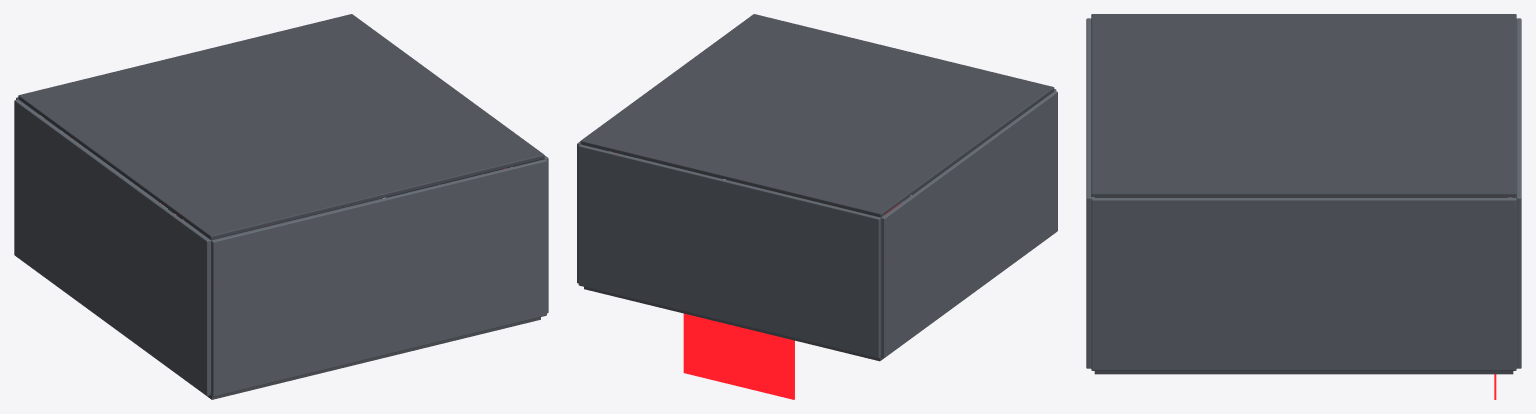
File: map.glb
3 renders of one model, left to right at view 1: azimuth 30°, elevation 25°; view 2: azimuth 150°, elevation 25°; view 3: azimuth 270°, elevation 25°, orthographic. The views are drawn at different scales.
Visible parts, largest first — view 1: MAP_Ceiling, MAP_BackWall, MAP_LeftWall, MAP_Floor; view 2: MAP_Ceiling, MAP_FrontWall, MAP_LeftWall, MAP_SessionSummaryBorder, MAP_Floor; view 3: MAP_Ceiling, MAP_RightWall, MAP_BackWall, MAP_FrontWall, MAP_Floor.
Part boxes in pixels (x1,y1,x2,y2): MAP_Ceiling: (18,14,544,239); MAP_BackWall: (211,159,546,396); MAP_LeftWall: (14,99,210,396); MAP_Floor: (184,198,540,399); MAP_Ceiling: (580,14,1054,217); MAP_FrontWall: (578,144,880,358); MAP_LeftWall: (881,91,1057,357); MAP_SessionSummaryBorder: (683,313,794,399); MAP_Floor: (584,180,909,361); MAP_Ceiling: (1091,14,1516,197); MAP_RightWall: (1091,198,1516,370); MAP_BackWall: (1086,18,1091,368); MAP_FrontWall: (1516,18,1521,368); MAP_Floor: (1094,197,1513,374).
Size of the model in its own units: 18.42 by 12.31 by 18.42.
Materials: 8 (1 with a texture image).
